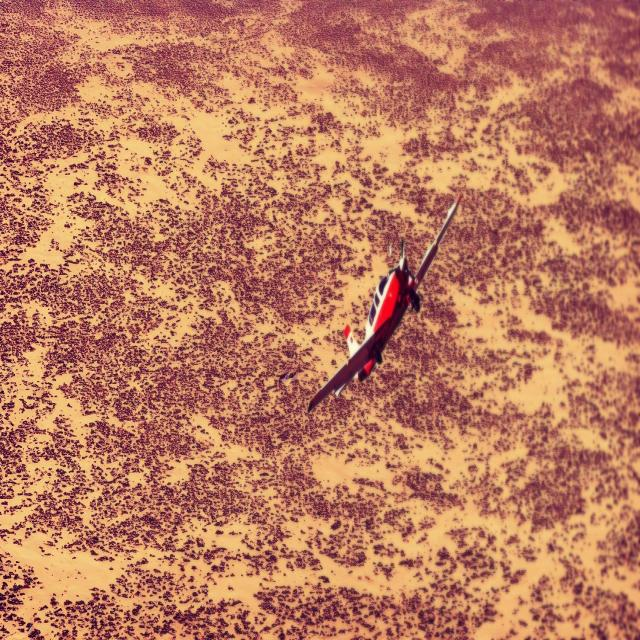airplane: (307, 191, 462, 414)
